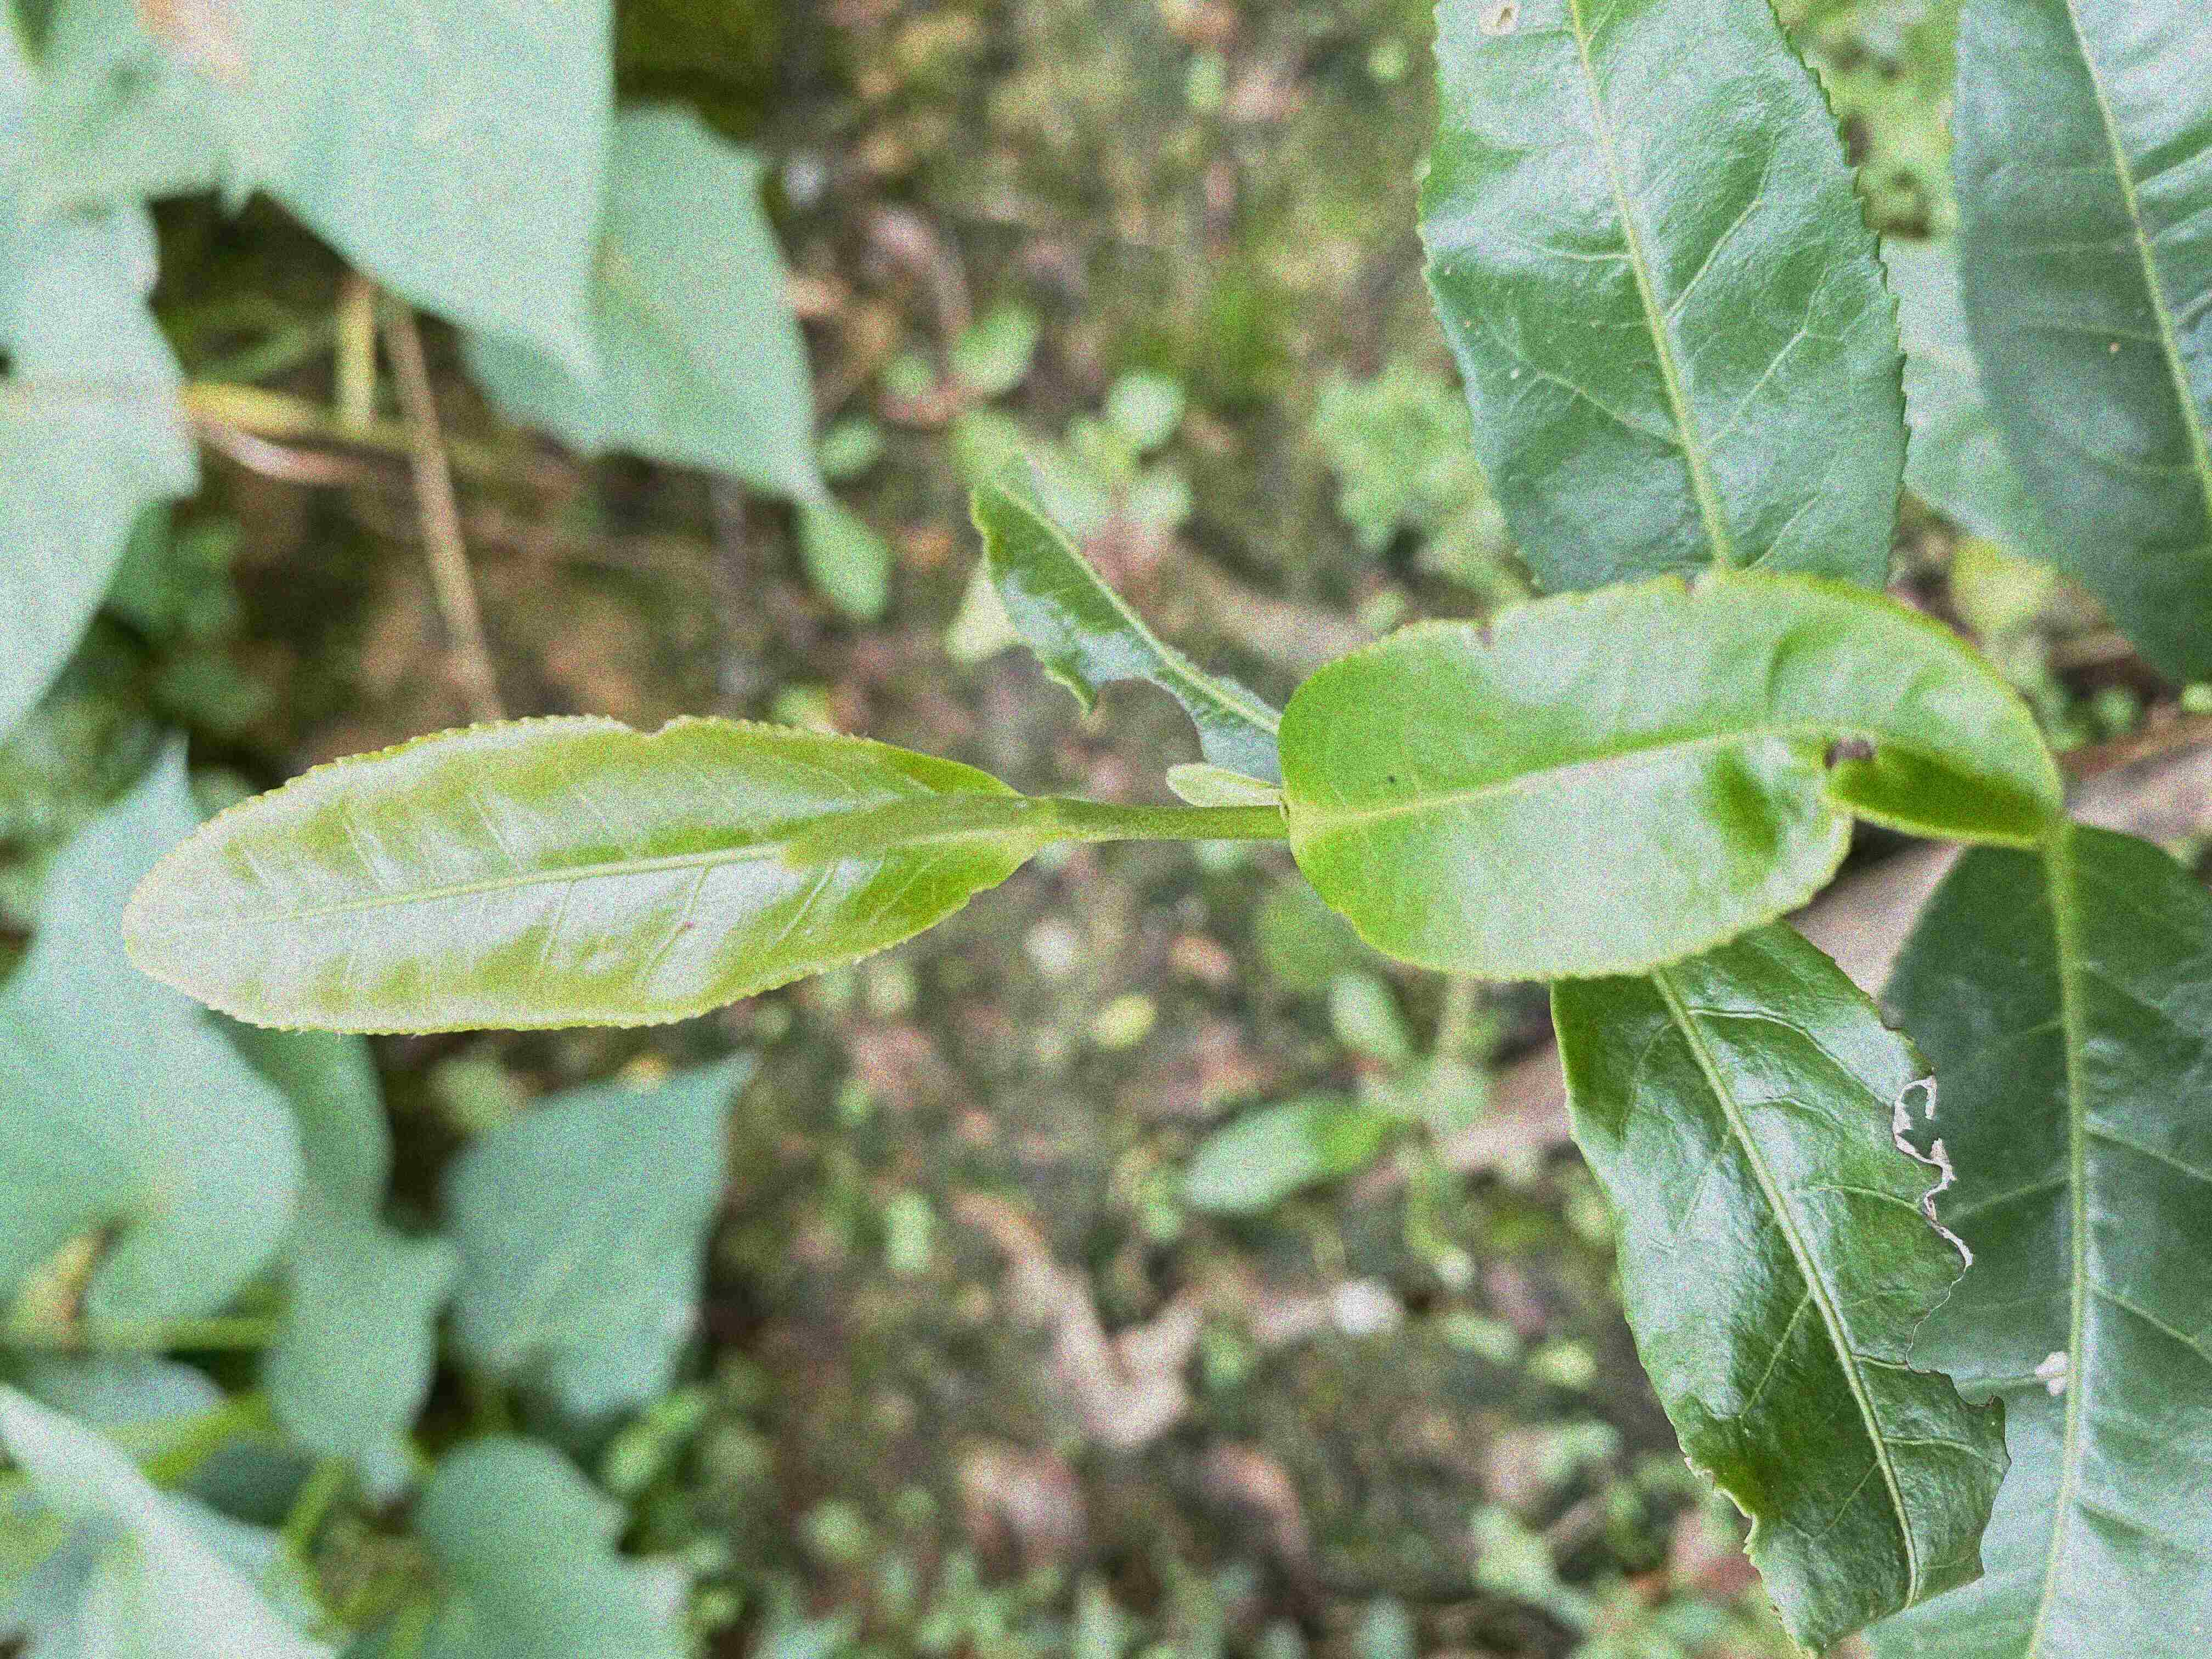chihuo_high: (1545, 917, 2012, 1656), (970, 477, 1289, 786)
chihuo_low: (118, 713, 1049, 1039)
tanju_low: (1278, 568, 2066, 983), (1416, 3, 1909, 594)
